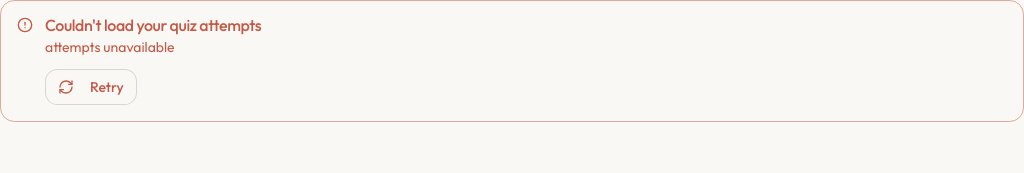
Scenario: InlineQuizPlayer › recovers via retry and enforces the attempt limit from the reloaded data
The image size is (1024, 173).
Click the button "Retry": x=91, y=87 [45,69,137,105]
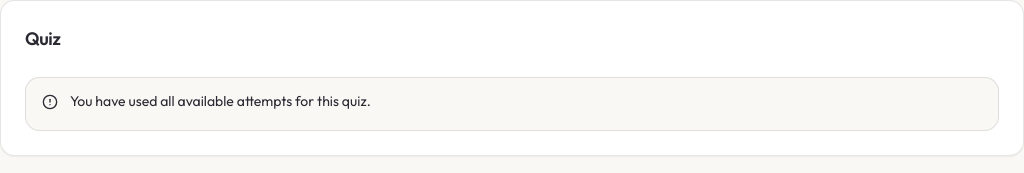
Expected: the text "You have used all available attempts for this quiz." is shown, [70,92,371,110]
Expected: the heading "Couldn't load your quiz attempts" is gone
